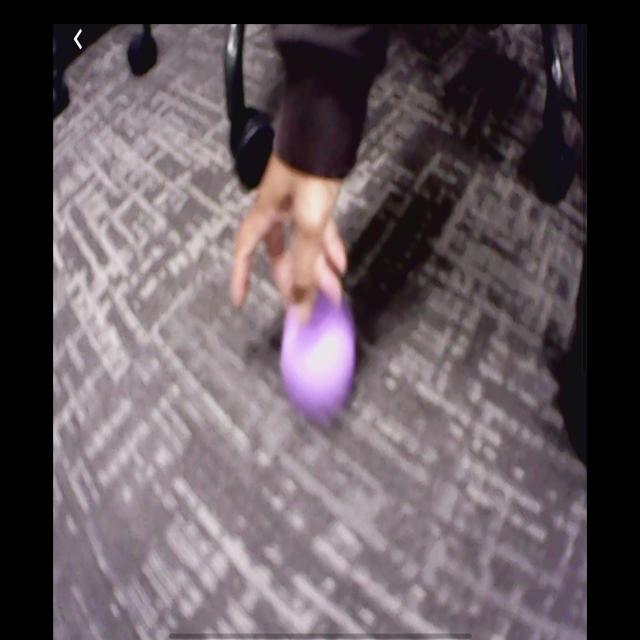ball: (284, 292, 360, 412)
